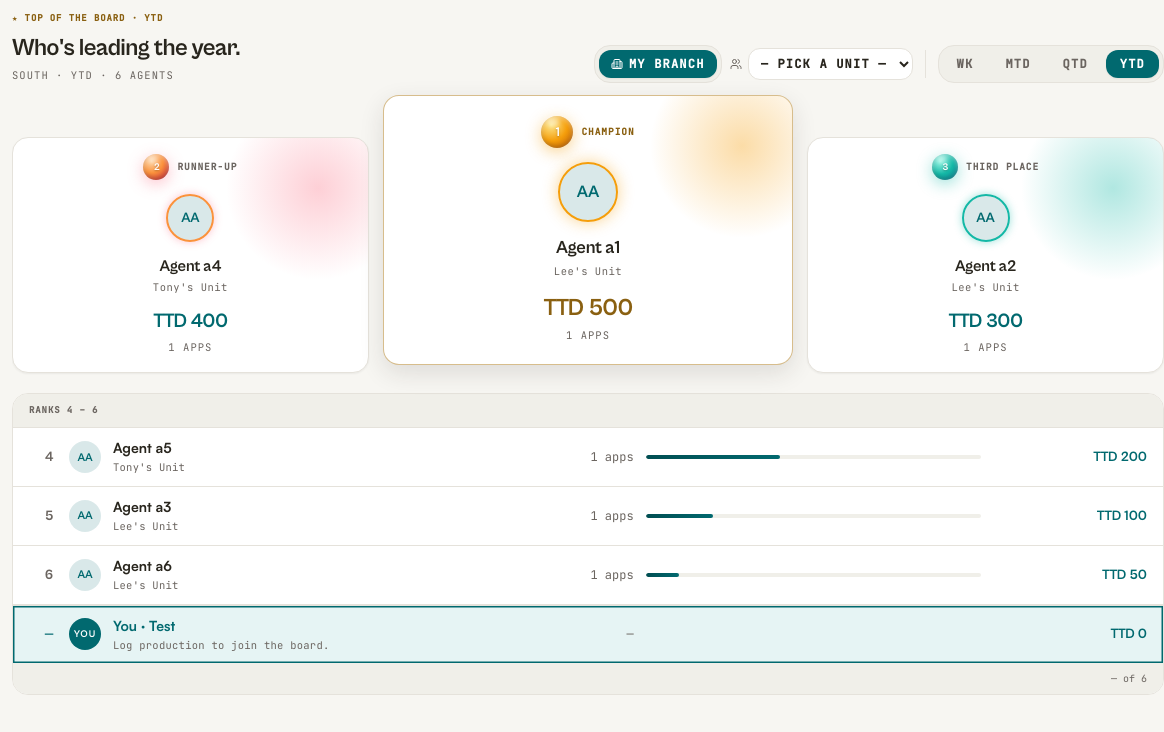
Test case: ProductionLeaderboardSurface — scope filter re-scopes the surface › BM picks a unit via the picker → surface re-scopes to that unit
Select "Tony's Unit" in the dropdown with test id "leaderboard-scope-unit-picker": (830,64) [748, 48, 913, 80]
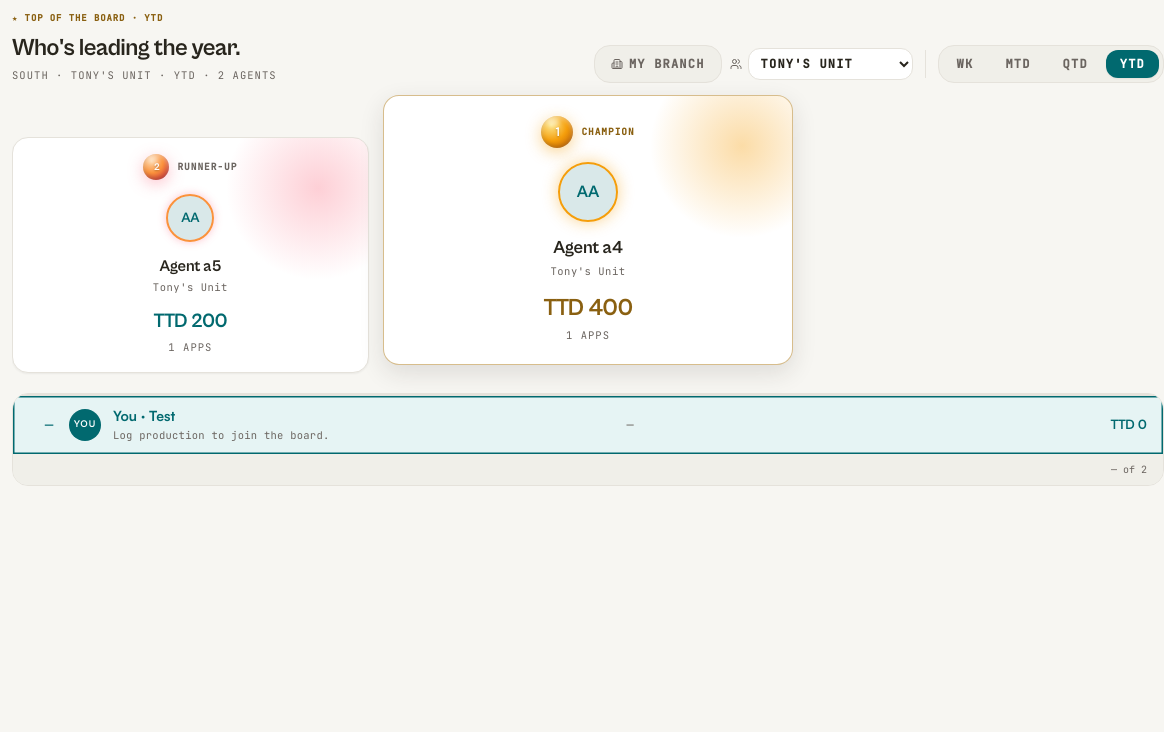
expect the text with test id "leaderboard-scope-subtitle" shows "Tony's Unit · YTD · 2 agents": met, box [12, 68, 277, 83]
expect no elements with test id "podium-card-rank-3" are shown: met
